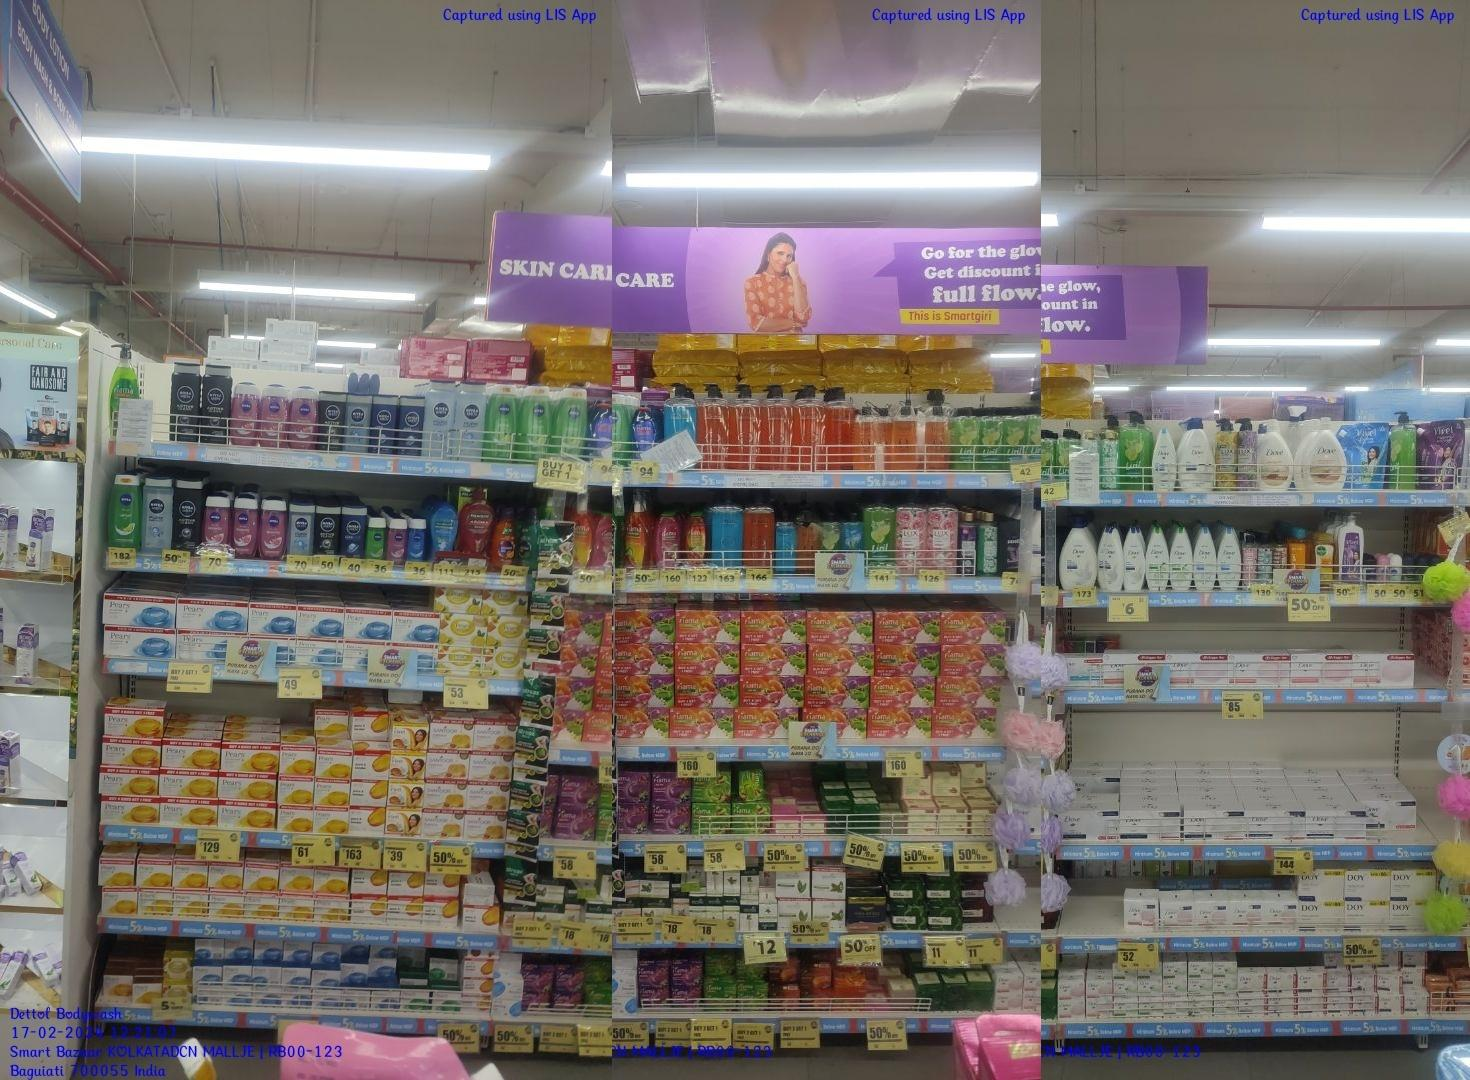Dettol_Bodywash_Refresh: (1315, 534, 1334, 585)
Dove_Deep_Moisture_Body_Wash_250ML: (1153, 428, 1176, 492), (1101, 525, 1122, 590), (1124, 527, 1145, 590)
Dove_Gentle_Exfoliating_Body_Wash_250ML: (1218, 527, 1241, 591), (1194, 527, 1217, 590)
Dove_Refreshing_Body_Wash_250ML: (1170, 526, 1193, 590), (1147, 527, 1169, 591)
Fiama_Shower_Gel_Patchouli_and_Macadamia_250ML: (655, 510, 682, 567)
Fiama_Shower_Gel_Peach_and_Avocado_250ML: (685, 513, 706, 565)
Lux_Black_Orchid_Scent_and_Juniper_Oil_Body_Wash_245ML: (961, 513, 978, 575)
Lux_Body_Wash_Skin_Detox_Freesia_Scent_and_Alove_Vera_245ML: (1099, 430, 1120, 489), (980, 513, 996, 575)
Nivea_Shower_Gel_Lemon_and_Oil_250ML: (111, 474, 142, 553)
Nivea_Shower_Gel_Waterlily_and_Oil_250ML: (231, 382, 258, 445), (289, 387, 316, 449), (259, 386, 286, 445), (232, 498, 258, 559), (260, 499, 286, 561), (204, 495, 231, 554)
